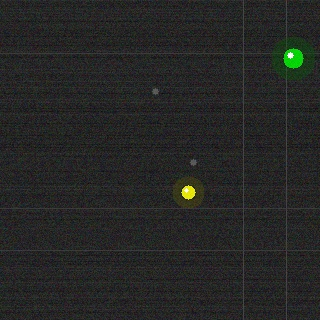green_normal: (281, 46, 305, 70)
yellow_warning: (179, 183, 197, 201)
